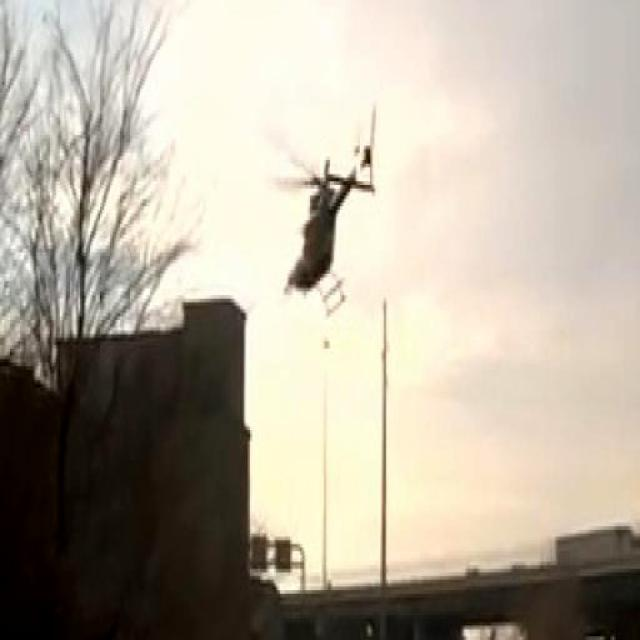drone: (269, 96, 378, 319)
